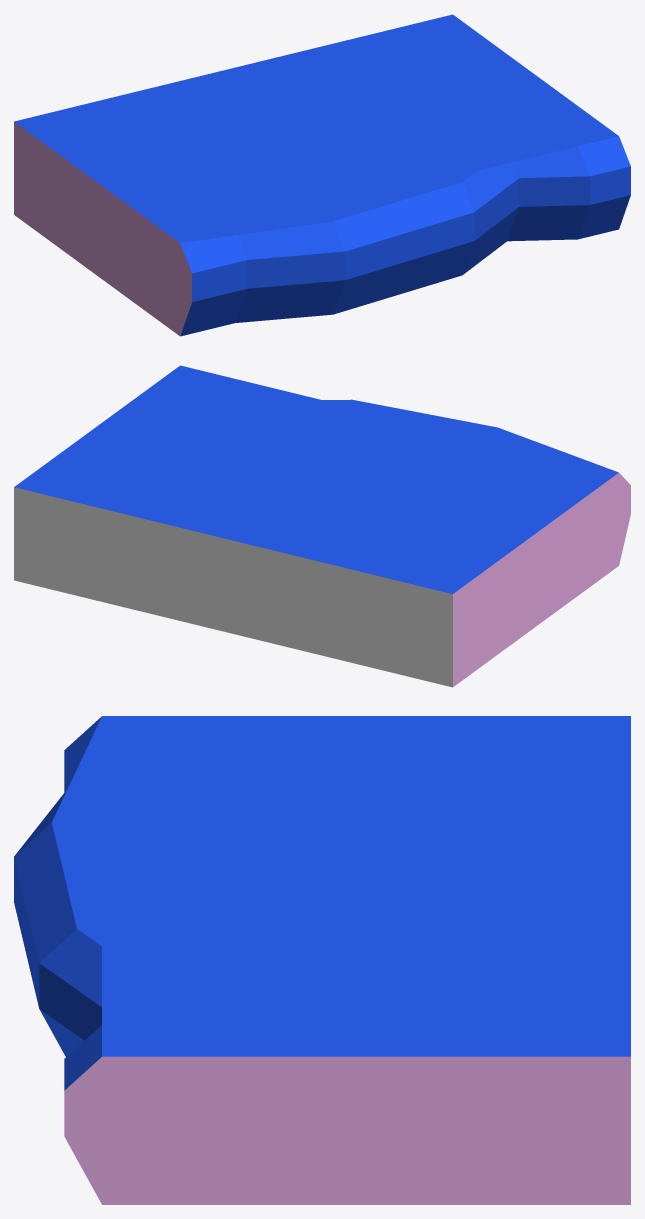
Rendered from Iceberg_Straight_2x2_1.glb.
The picture shows the model from 3 angles, top to bottom: view 1: azimuth 30°, elevation 25°; view 2: azimuth 150°, elevation 25°; view 3: azimuth 270°, elevation 25°; orthographic projection. The views are drawn at different scales.
Parts seen in each view (by area): view 1: Iceberg_Straight_2x2_1; view 2: Iceberg_Straight_2x2_1; view 3: Iceberg_Straight_2x2_1.
Boxes of the visible parts, left/top/right/bottom form: Iceberg_Straight_2x2_1: left=14, top=14, right=630, bottom=336; Iceberg_Straight_2x2_1: left=14, top=365, right=630, bottom=687; Iceberg_Straight_2x2_1: left=14, top=716, right=630, bottom=1204.
Size of the model in its own units: 200 by 40.62 by 153.
